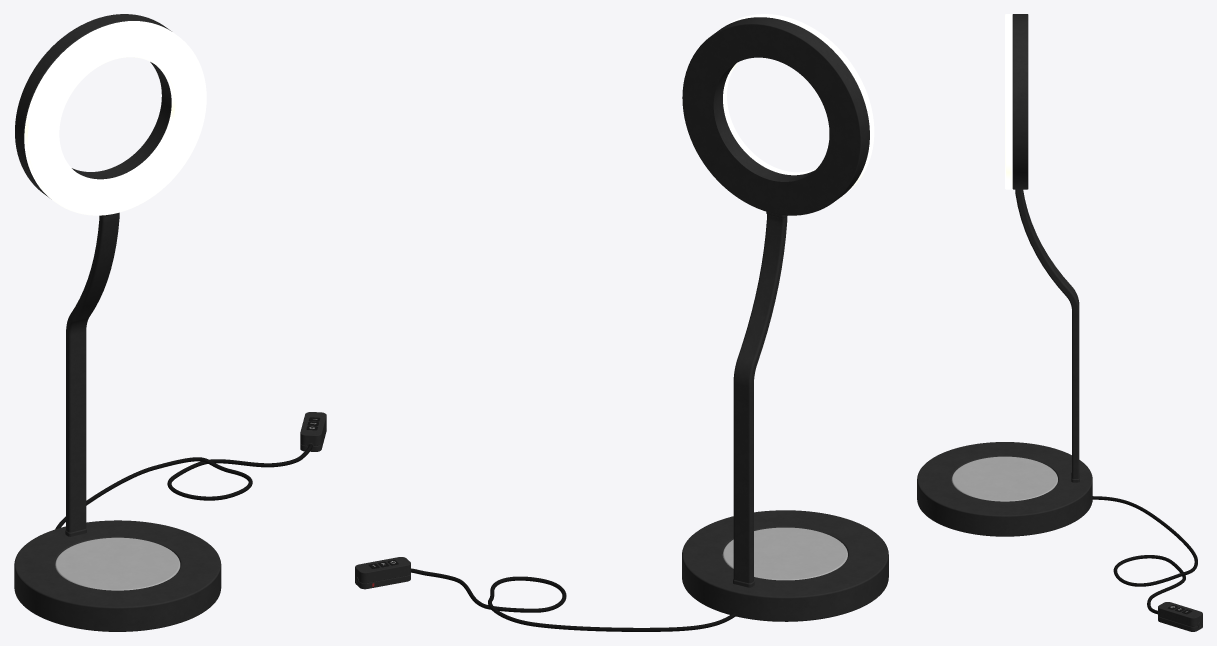
The model's file is office_desk_lamp.glb.
The picture shows the model from 3 angles, left to right: view 1: azimuth 30°, elevation 25°; view 2: azimuth 150°, elevation 25°; view 3: azimuth 270°, elevation 25°; orthographic projection. The views are drawn at different scales.
Visible parts, largest first — view 1: desk_lamp1_0, lamp_cable_2, lamp_switch1_1; view 2: desk_lamp1_0, lamp_cable_2, lamp_switch1_1; view 3: desk_lamp1_0, lamp_cable_2, lamp_switch1_1.
Part boxes in pixels (x1=…): desk_lamp1_0: x1=14, y1=14, x2=221, y2=631; lamp_cable_2: x1=55, y1=444, x2=312, y2=529; lamp_switch1_1: x1=300, y1=412, x2=326, y2=451; desk_lamp1_0: x1=682, y1=14, x2=888, y2=621; lamp_cable_2: x1=411, y1=568, x2=736, y2=631; lamp_switch1_1: x1=355, y1=557, x2=410, y2=589; desk_lamp1_0: x1=917, y1=14, x2=1092, y2=536; lamp_cable_2: x1=1092, y1=496, x2=1197, y2=614; lamp_switch1_1: x1=1158, y1=602, x2=1202, y2=631.
Bounding box in the file's own units: 0.4557 × 0.6004 × 0.3253.
6 materials, 6 textured.
